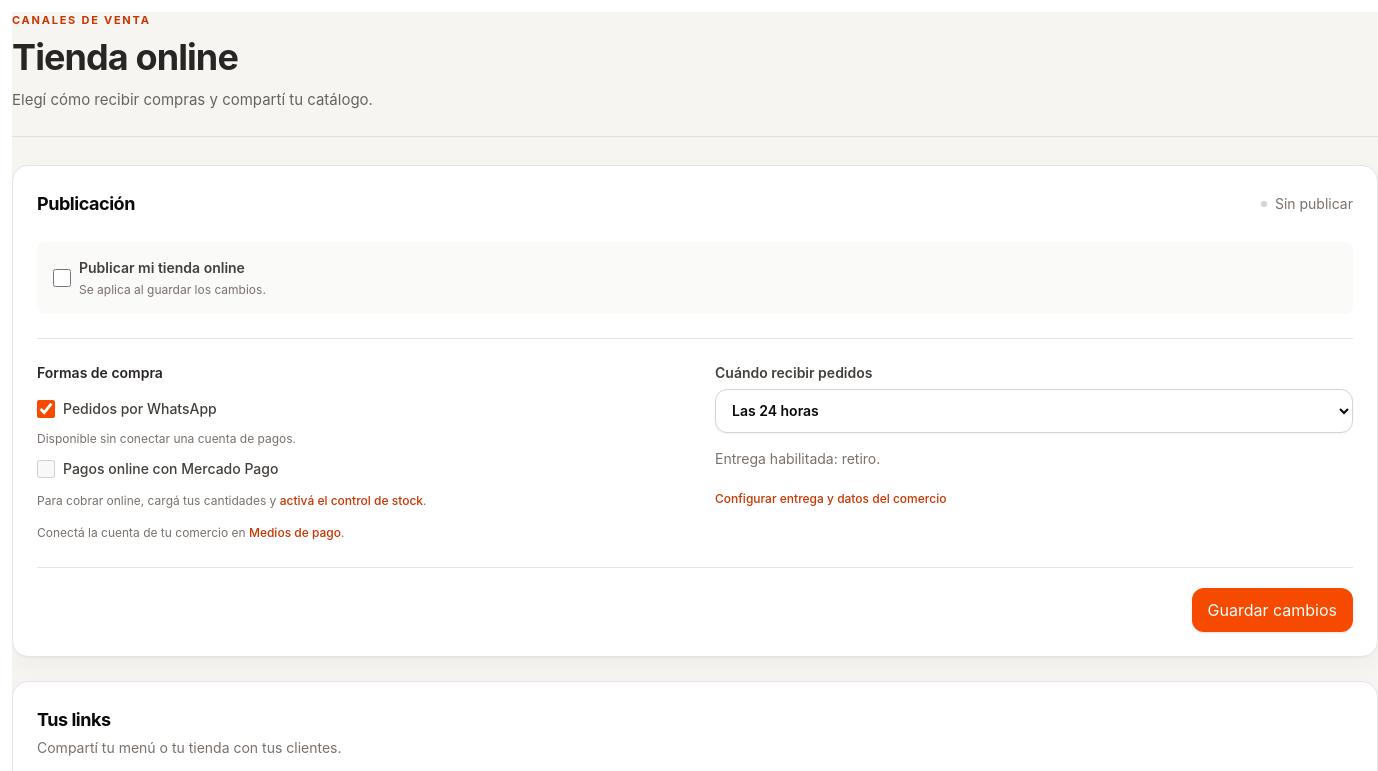
it: StoreSettingsPage › publishes WhatsApp-only without a connected provider or active inventory and writes only the four tenant fields
The image size is (1378, 771).
Step 1. Click the checkbox labelled "Publicar mi tienda online Se aplica al guardar los cambios." → click(62, 278), box [53, 268, 71, 286]
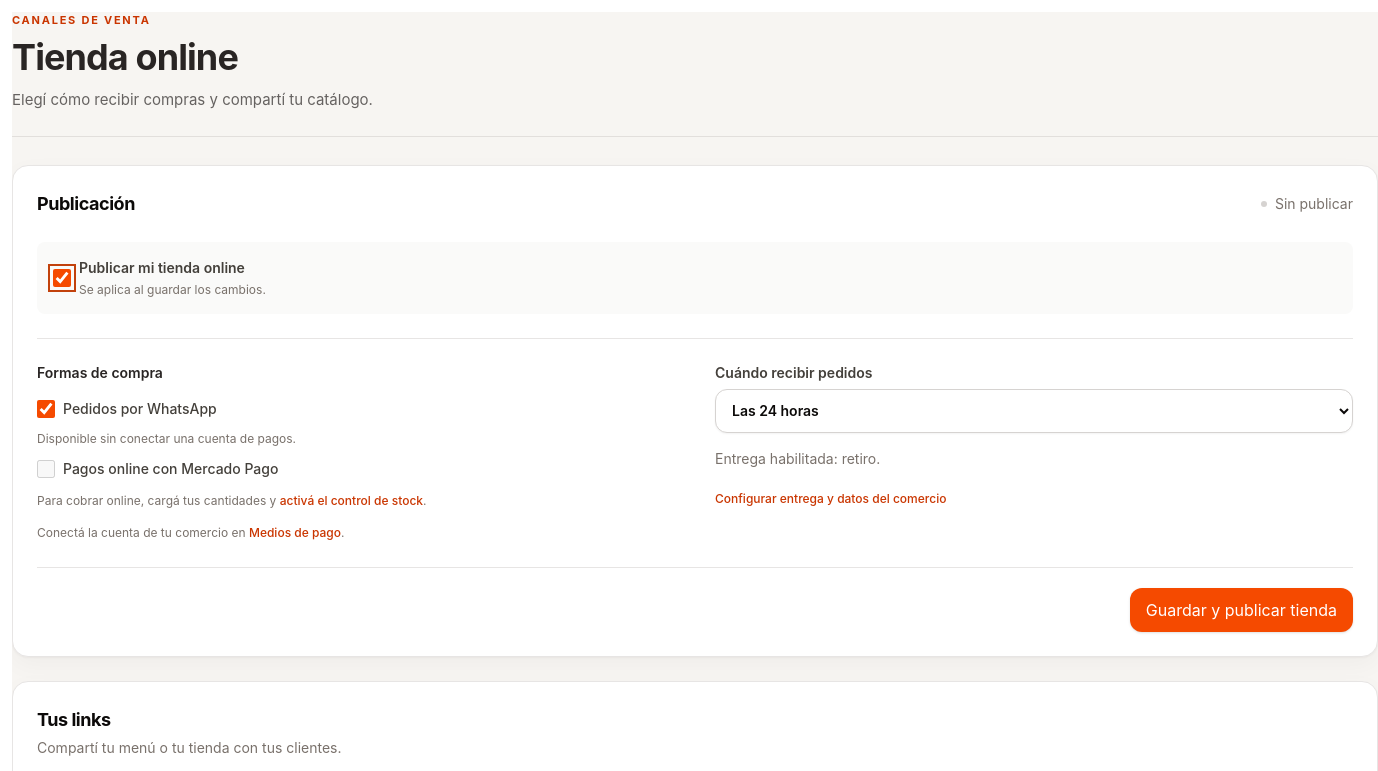
Step 2. Select "Dentro del horario de atención" in the dropdown labelled "Cuándo recibir pedidos" → (1034, 410), box [715, 388, 1353, 432]
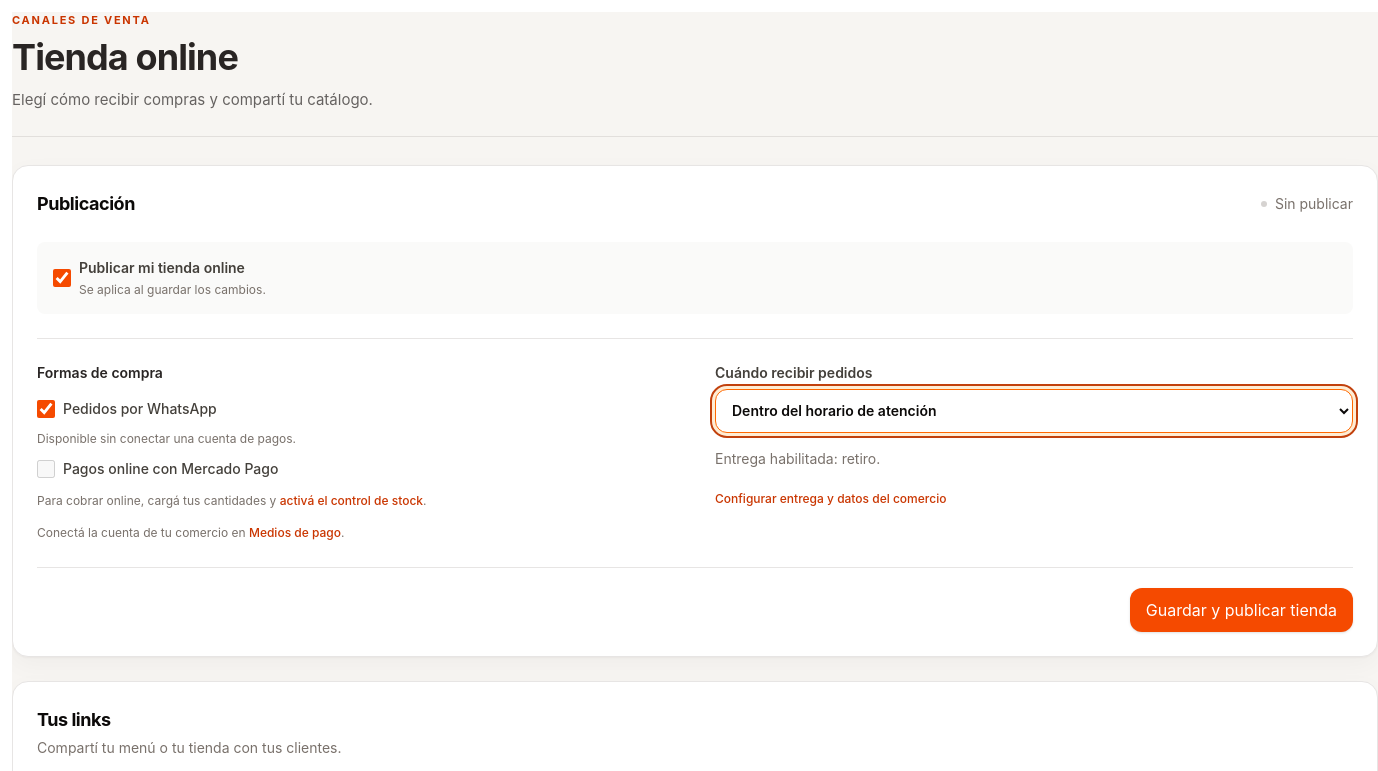
Expected: the checkbox labelled "Pagos online con Mercado Pago" is disabled, [37, 460, 55, 478]
Step 3. Click the button "Guardar y publicar tienda" → click(1241, 610), box [1130, 588, 1353, 632]
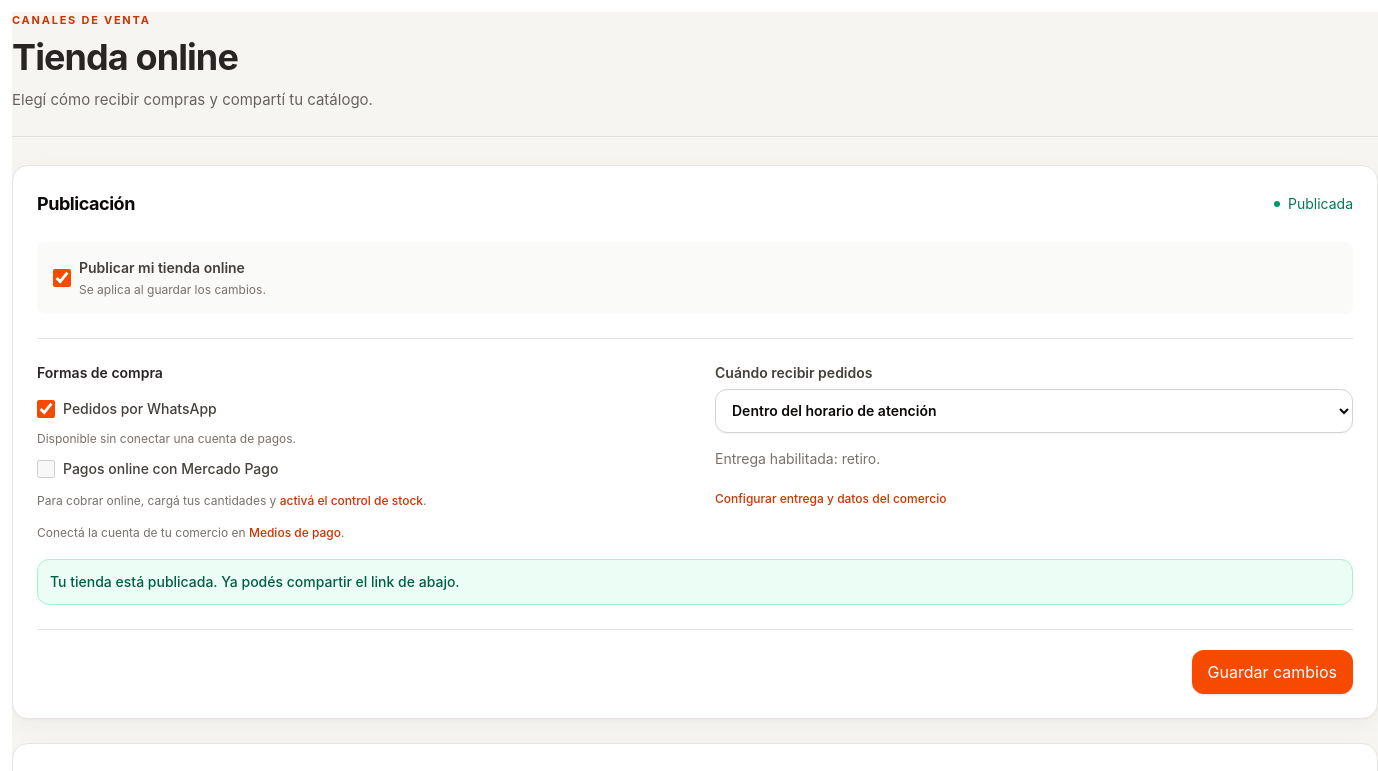
Result: the message shows "Tu tienda está publicada" at [50, 572, 460, 590]
